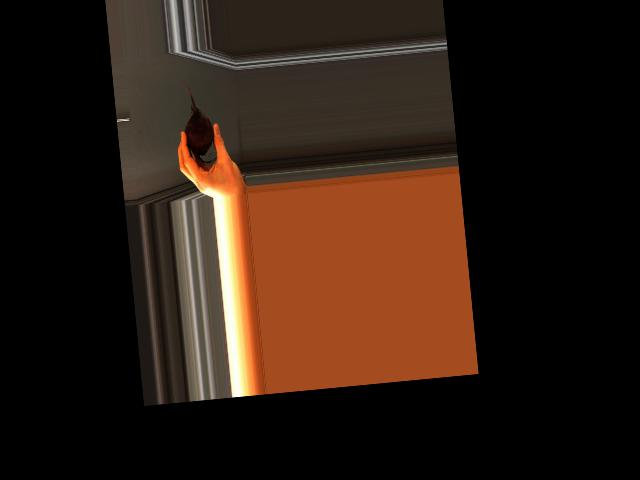beet: (180, 74, 217, 163)
